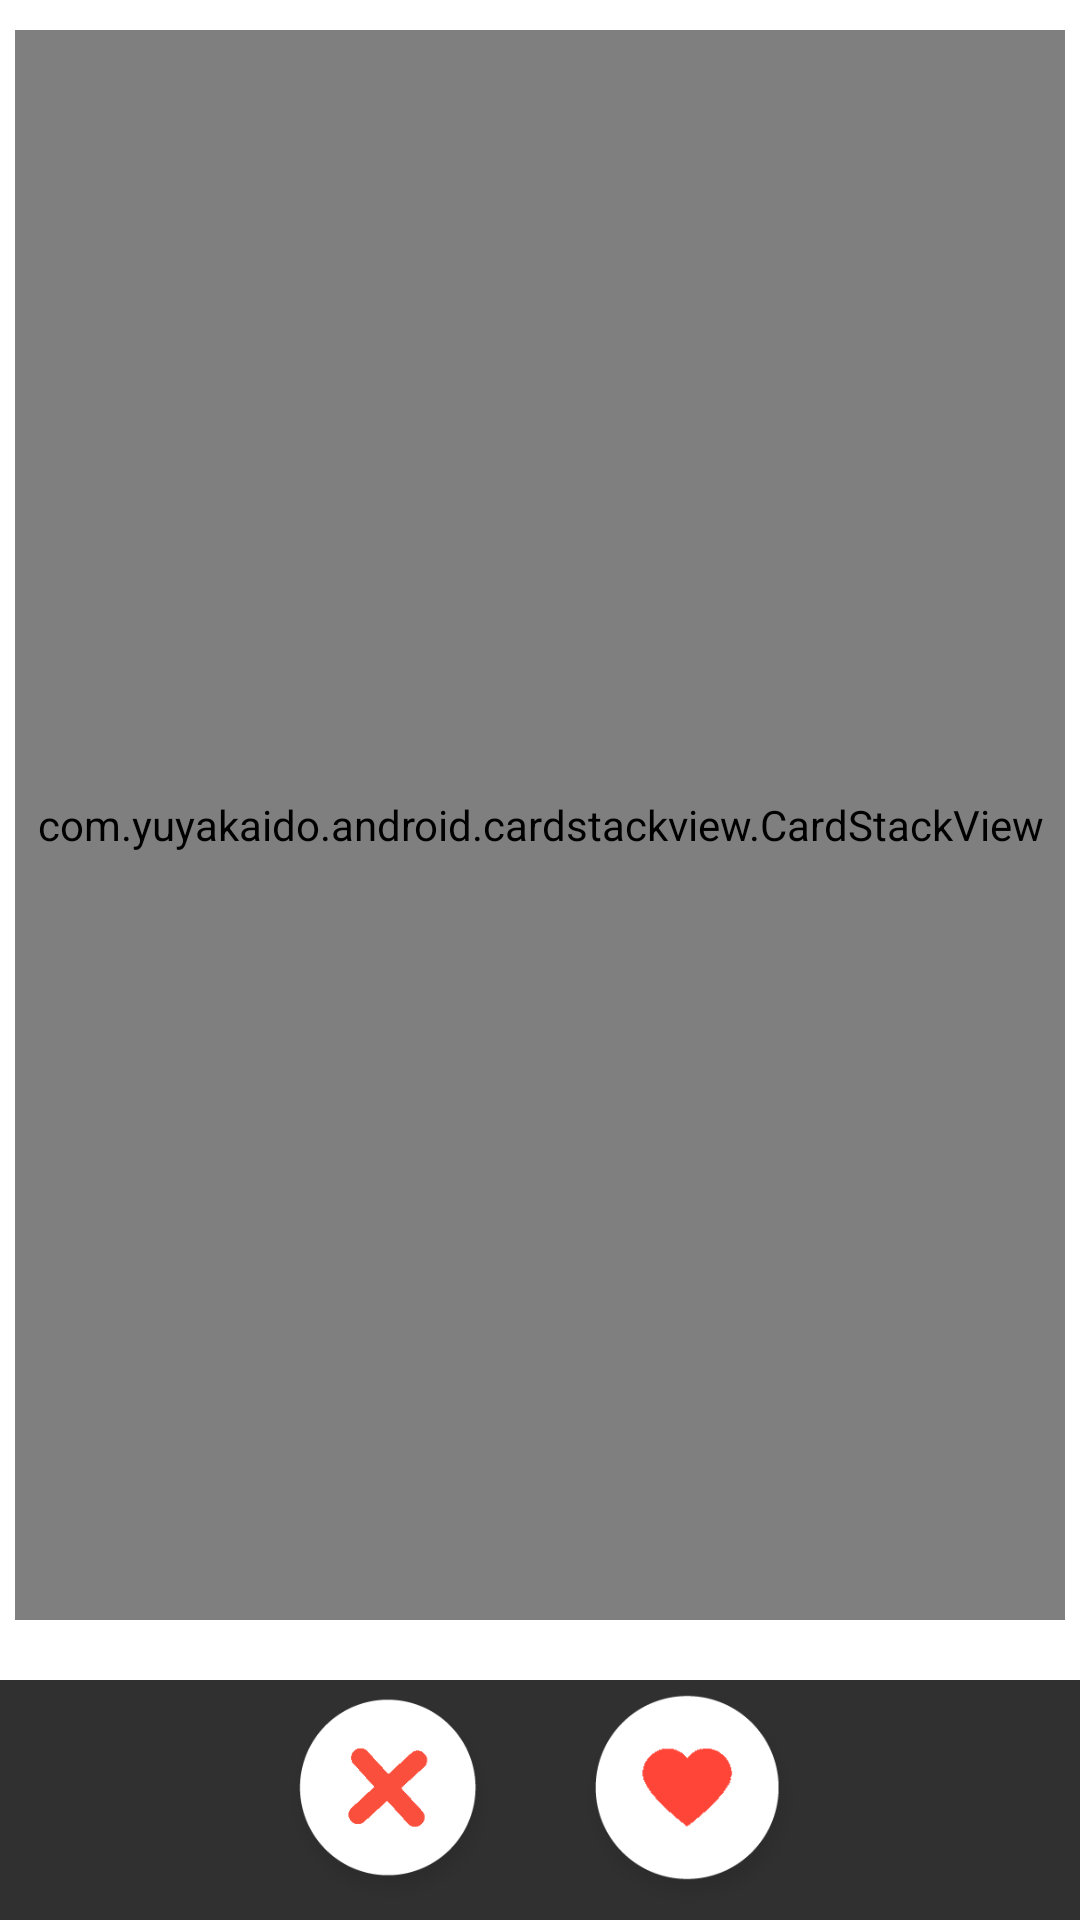

Where to tap for icons on this 1080w x 1920h app screen, as (x=x, y=y):
cross: (x=387, y=1787)
heart: (x=687, y=1787)
